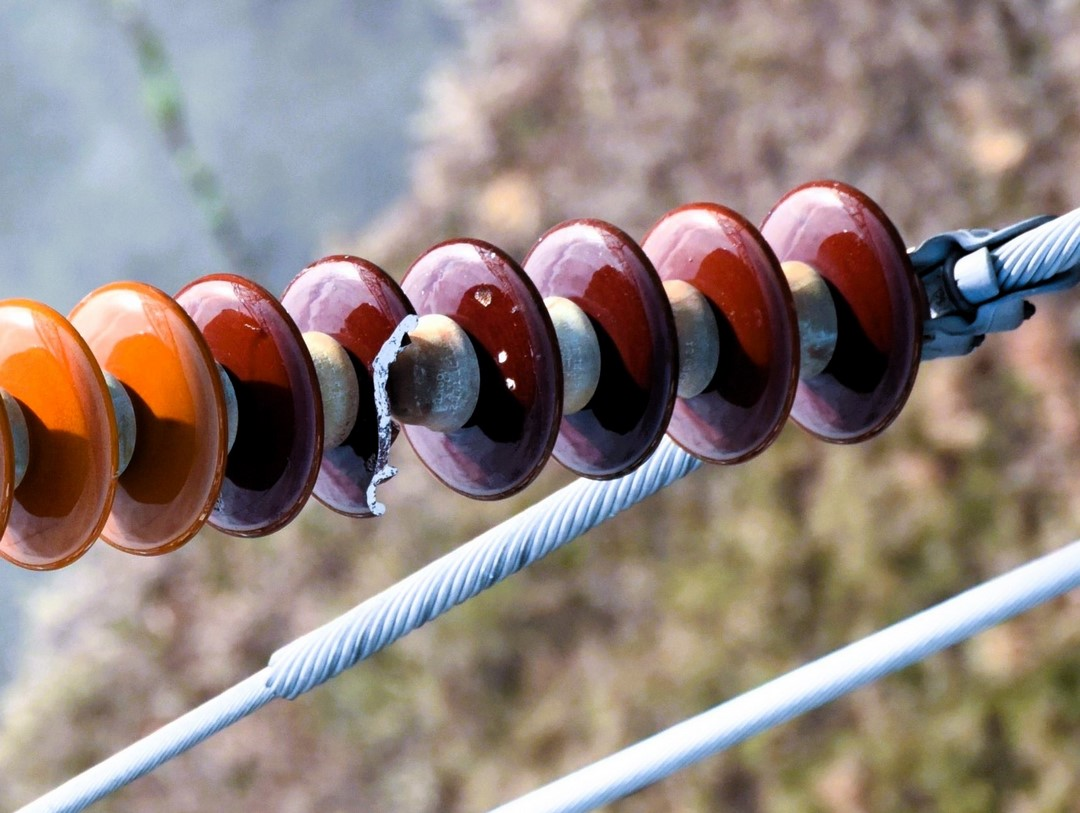insulator breakage: (274, 257, 440, 526)
